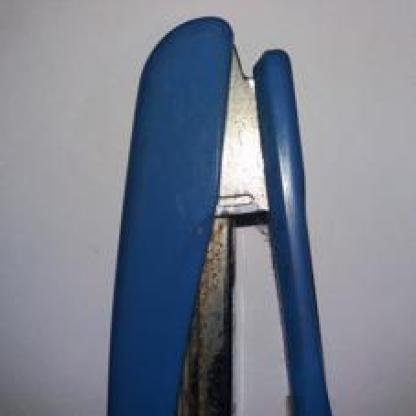stapler: (81, 26, 379, 414)
